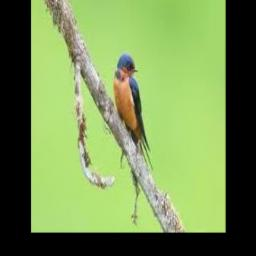Swallow: (113, 53, 153, 174)
